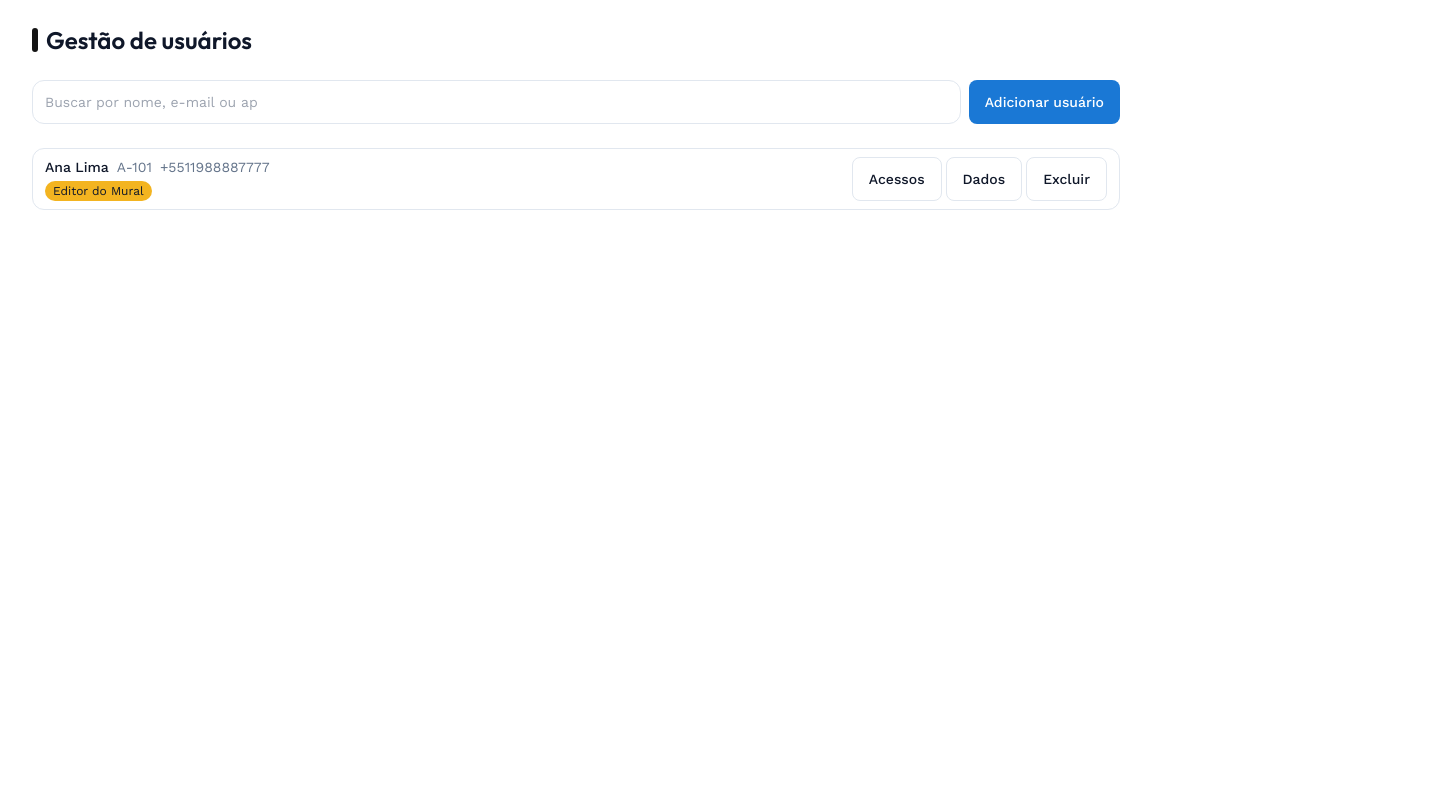
AccessManagementPage › "Dados" de quem já criou a senha não mostra reenviar
Expected: the text "Ana Lima" is shown, x1=45 y1=157 x2=109 y2=177
Click the button "Dados" at (984, 179), box x1=946 y1=157 x2=1022 y2=201
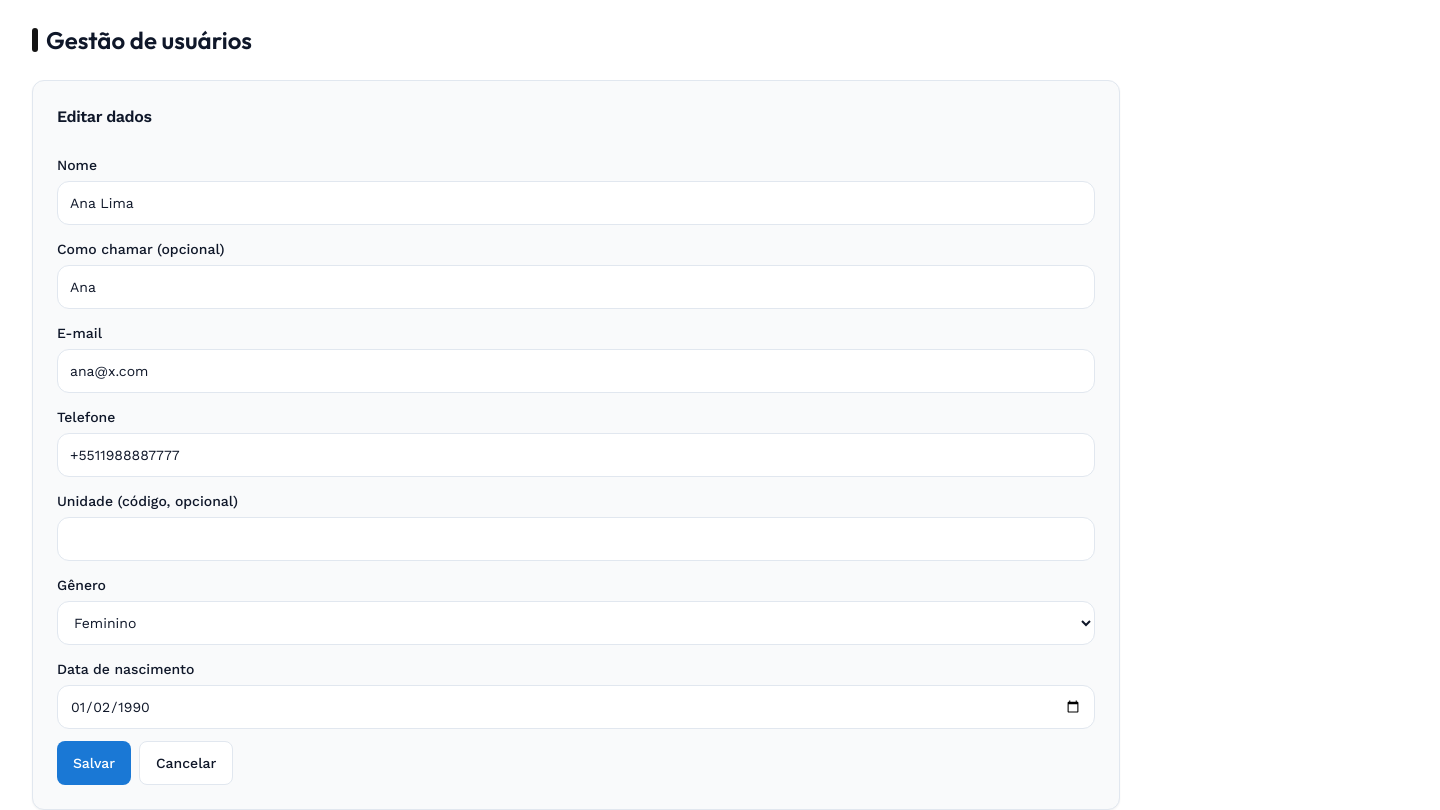
Now the field showing "ana@x.com" is shown, box x1=57 y1=349 x2=1095 y2=393
